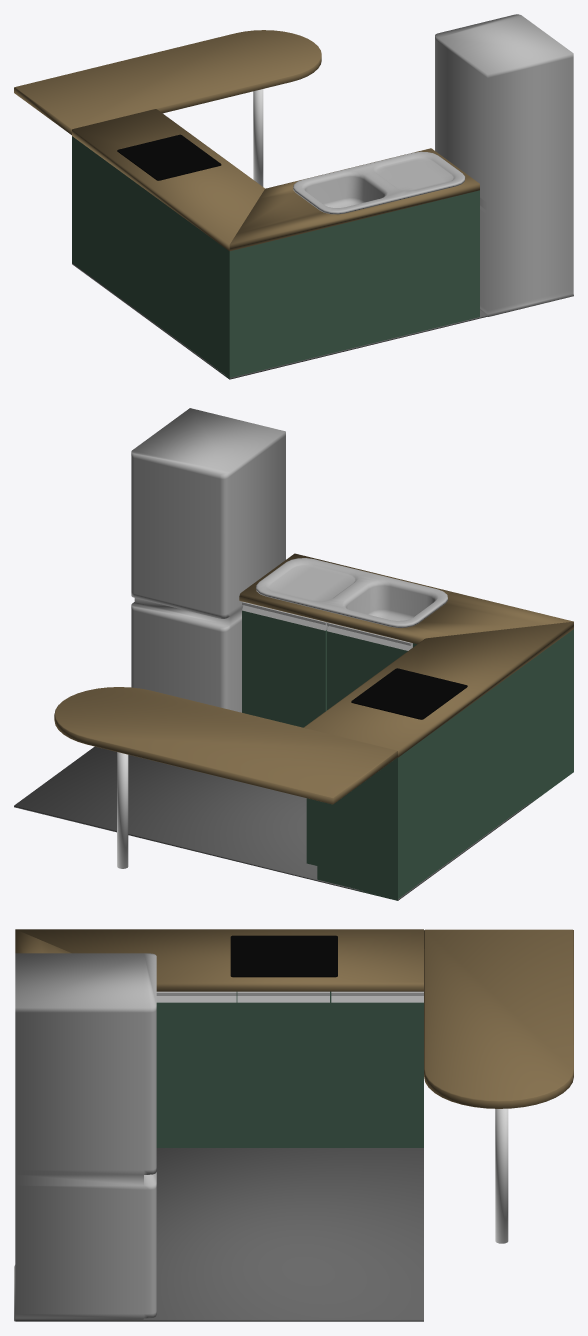
File: Kitchen.fbx
The picture shows the model from 3 angles, top to bottom: view 1: azimuth 30°, elevation 25°; view 2: azimuth 150°, elevation 25°; view 3: azimuth 270°, elevation 25°; orthographic projection. The views are drawn at different scales.
Visible parts, largest first — view 1: Fridge.001, KitchenBas1.001, KitchenBas2.001, Table.001, Kitchen1.001, Sink.001, Kitchen2.001, Plane.001, TableLeg.001, KitchenFloor.001; view 2: Fridge.001, KitchenBas2.001, Table.001, KitchenFloor.001, Kitchen1.001, KitchenBasDoor1.001, Sink.001, Kitchen2.001, KitchenBasDoor2.001, Plane.001, TableLeg.001; view 3: Fridge.001, KitchenFloor.001, Table.001, Kitchen1.001, KitchenBasDoor5.001, KitchenBasDoor4.001, KitchenBasDoor3.001, Plane.001, KitchenBas2.001, TableLeg.001, Kitchen2.001.
Part boxes in pixels (x1=…): Fridge.001: x1=435, y1=14, x2=573, y2=316; KitchenBas1.001: x1=229, y1=190, x2=479, y2=377; KitchenBas2.001: x1=72, y1=136, x2=229, y2=379; Table.001: x1=14, y1=30, x2=321, y2=134; Kitchen1.001: x1=72, y1=109, x2=265, y2=250; Sink.001: x1=293, y1=151, x2=465, y2=214; Kitchen2.001: x1=229, y1=148, x2=479, y2=251; Plane.001: x1=117, y1=134, x2=221, y2=180; TableLeg.001: x1=253, y1=89, x2=263, y2=186; KitchenFloor.001: x1=72, y1=263, x2=487, y2=379; Fridge.001: x1=131, y1=408, x2=285, y2=712; KitchenBas2.001: x1=310, y1=629, x2=573, y2=900; Table.001: x1=54, y1=687, x2=397, y2=804; KitchenFloor.001: x1=14, y1=746, x2=541, y2=900; Kitchen1.001: x1=303, y1=621, x2=573, y2=757; KitchenBasDoor1.001: x1=242, y1=602, x2=327, y2=727; Sink.001: x1=256, y1=558, x2=447, y2=627; Kitchen2.001: x1=239, y1=553, x2=573, y2=644; KitchenBasDoor2.001: x1=327, y1=622, x2=412, y2=709; Plane.001: x1=351, y1=668, x2=467, y2=719; TableLeg.001: x1=117, y1=752, x2=128, y2=868; Fridge.001: x1=14, y1=953, x2=156, y2=1321; KitchenFloor.001: x1=15, y1=1148, x2=423, y2=1321; Table.001: x1=424, y1=929, x2=573, y2=1108; Kitchen1.001: x1=16, y1=929, x2=423, y2=991; KitchenBasDoor5.001: x1=331, y1=991, x2=423, y2=1138; KitchenBasDoor4.001: x1=237, y1=991, x2=329, y2=1138; KitchenBasDoor3.001: x1=156, y1=991, x2=236, y2=1138; Plane.001: x1=230, y1=935, x2=337, y2=977; KitchenBas2.001: x1=156, y1=991, x2=423, y2=1147; TableLeg.001: x1=495, y1=1108, x2=508, y2=1243; Kitchen2.001: x1=15, y1=929, x2=71, y2=953.
Size of the model in its own units: 240 by 162 by 261.
